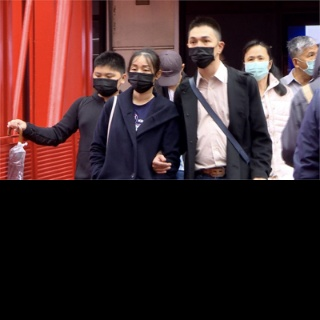with_mask: (188, 34, 217, 69), (128, 63, 154, 94), (92, 70, 120, 97), (243, 54, 268, 81), (303, 48, 319, 76)
